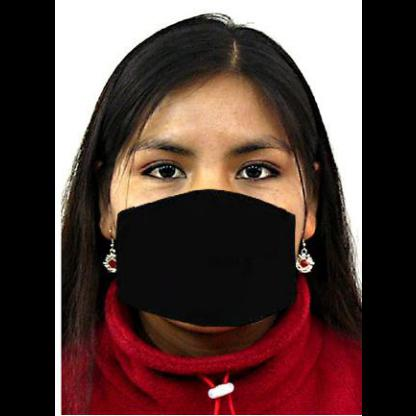Fabric/Cloth Mask: (118, 117, 312, 329)
